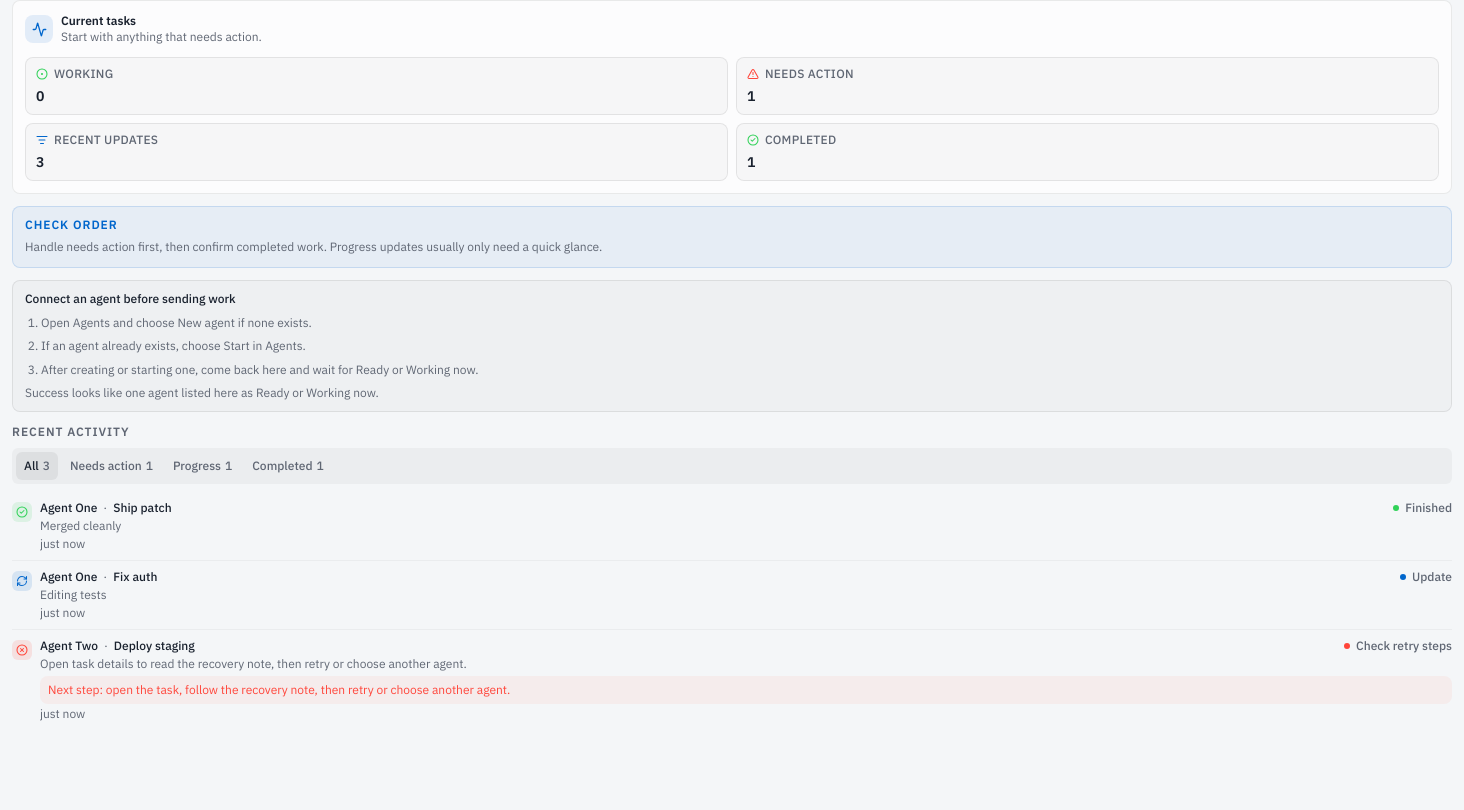
Test case: ActivityFeed › filters live feed by update category
Expected: the button with aria-label "show all recent updates, 3 matching updates" is shown, [16,452,58,480]
Click the button named "show updates that need your help or stopped early, 1 matching update". click: (111, 466)
box: [62,452,161,480]
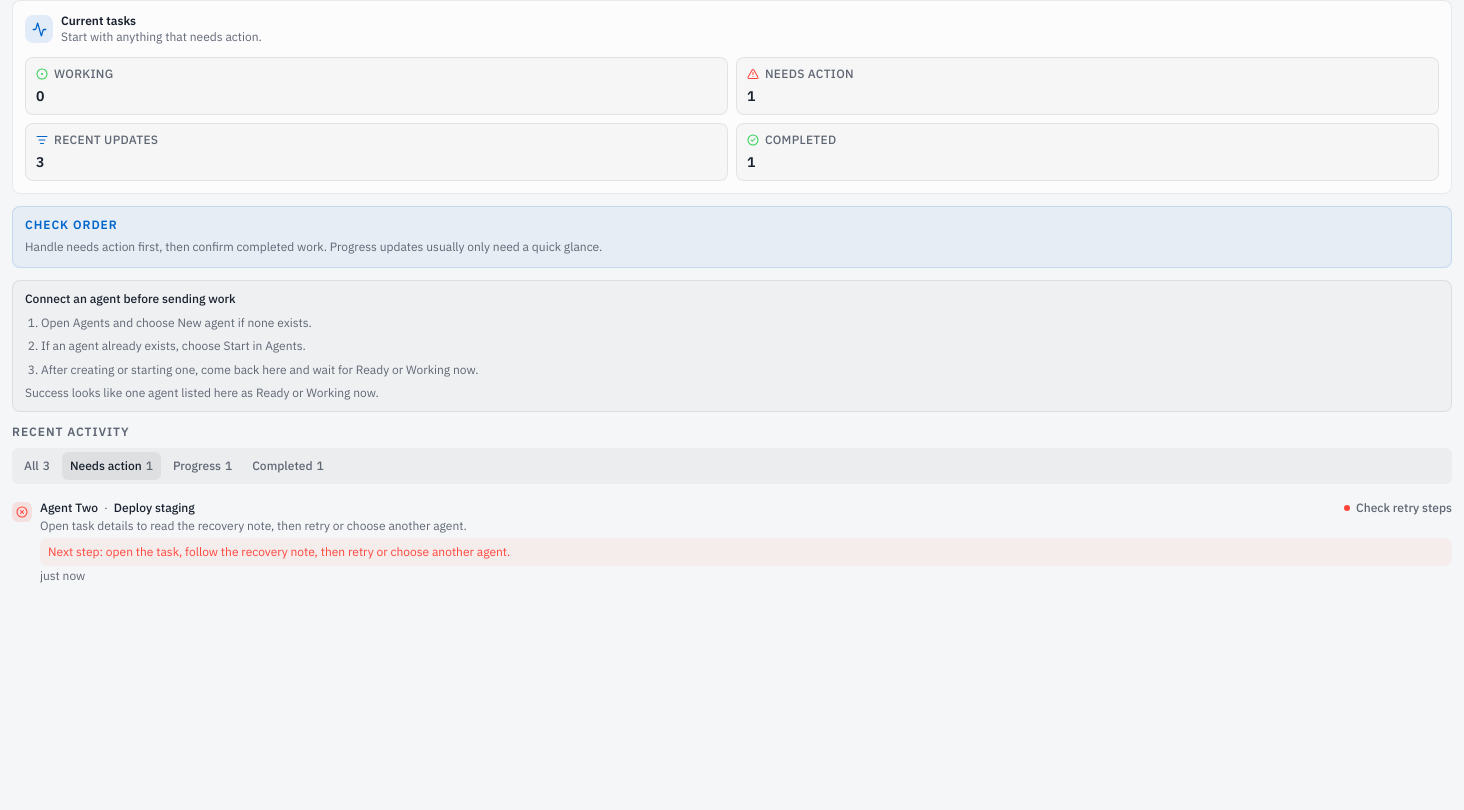
Expected: the text "Deploy staging" is shown, [114,500,195,515]
Now the text "Fix auth" is gone
Now the text "Ship patch" is gone
Click the button with aria-label "show updates for work in progress, 1 matching update". click: (203, 466)
box: [165,452,240,480]
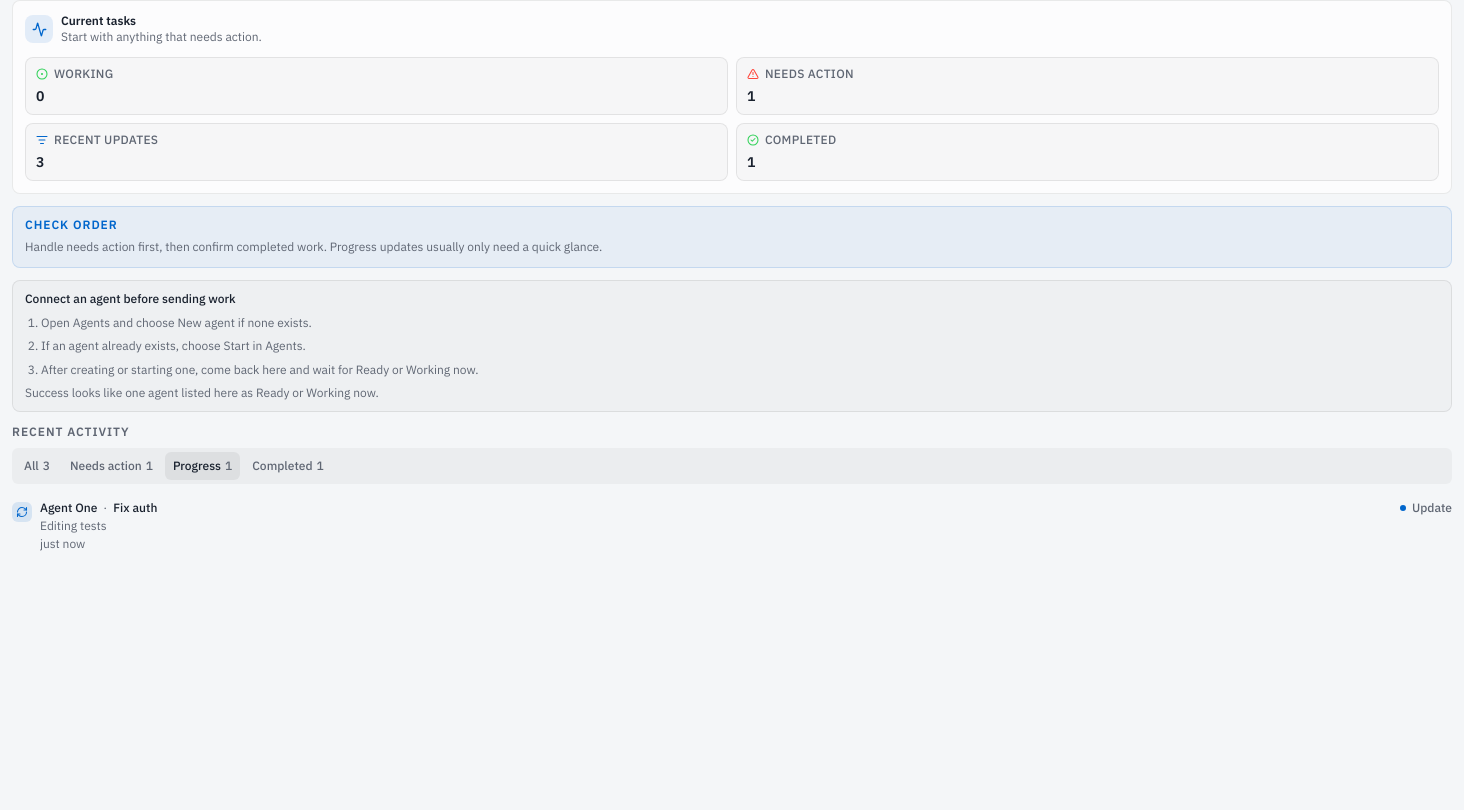
Now the text "Fix auth" is shown, box [113,500,157,515]
Now the text "Deploy staging" is gone
